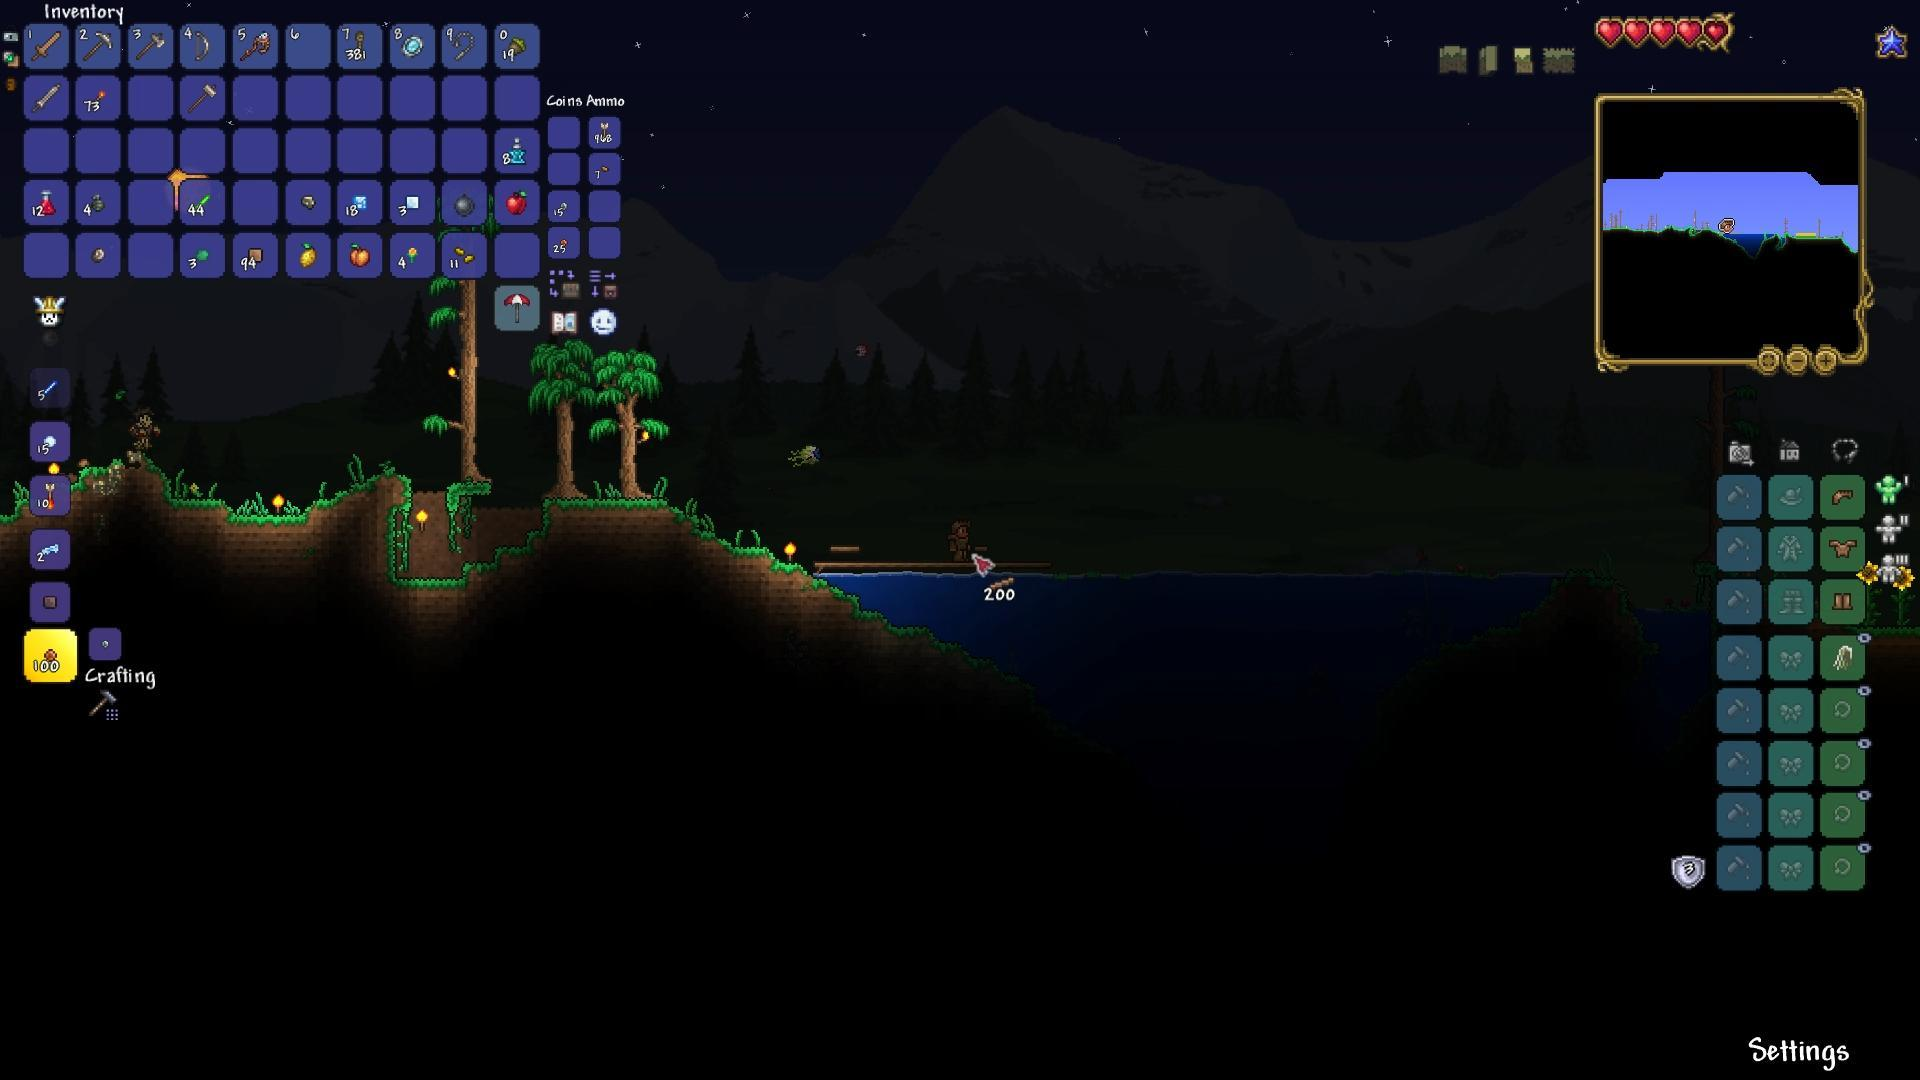eye: (781, 442, 835, 472)
grenade: (84, 187, 109, 219)
potion: (36, 182, 59, 219)
recallP: (506, 135, 529, 164)
